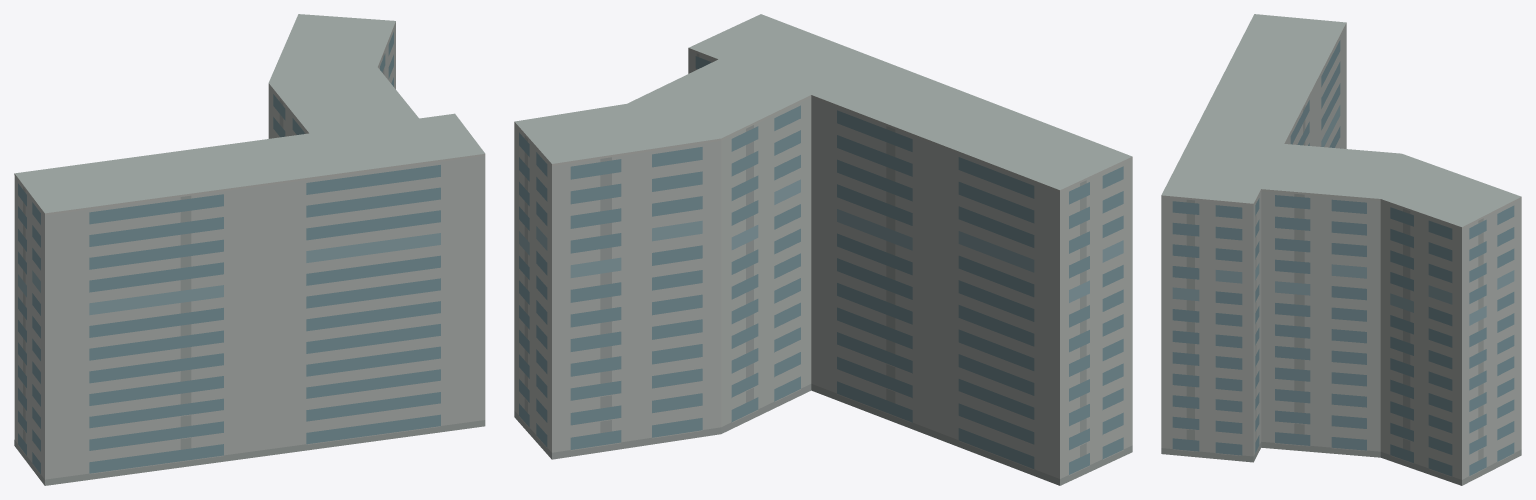
The model's file is residential-58b45f6c-c628-4ac9-b997-4ba8c8383eb9.glb.
3 views of the same model, side by side, from view 1: azimuth 30°, elevation 25°; view 2: azimuth 150°, elevation 25°; view 3: azimuth 270°, elevation 25° (orthographic). The views are drawn at different scales.
Visible parts, largest first — view 1: residential-58b45f6c-c628-4ac9-b997-4ba8c8383eb9.tmp; view 2: residential-58b45f6c-c628-4ac9-b997-4ba8c8383eb9.tmp; view 3: residential-58b45f6c-c628-4ac9-b997-4ba8c8383eb9.tmp.
Part boxes in pixels (bbox=[...]): residential-58b45f6c-c628-4ac9-b997-4ba8c8383eb9.tmp: bbox=[14, 14, 485, 485]; residential-58b45f6c-c628-4ac9-b997-4ba8c8383eb9.tmp: bbox=[514, 14, 1132, 485]; residential-58b45f6c-c628-4ac9-b997-4ba8c8383eb9.tmp: bbox=[1161, 14, 1521, 485].
Bounding box in the file's own units: 56.59 × 32 × 40.42.
